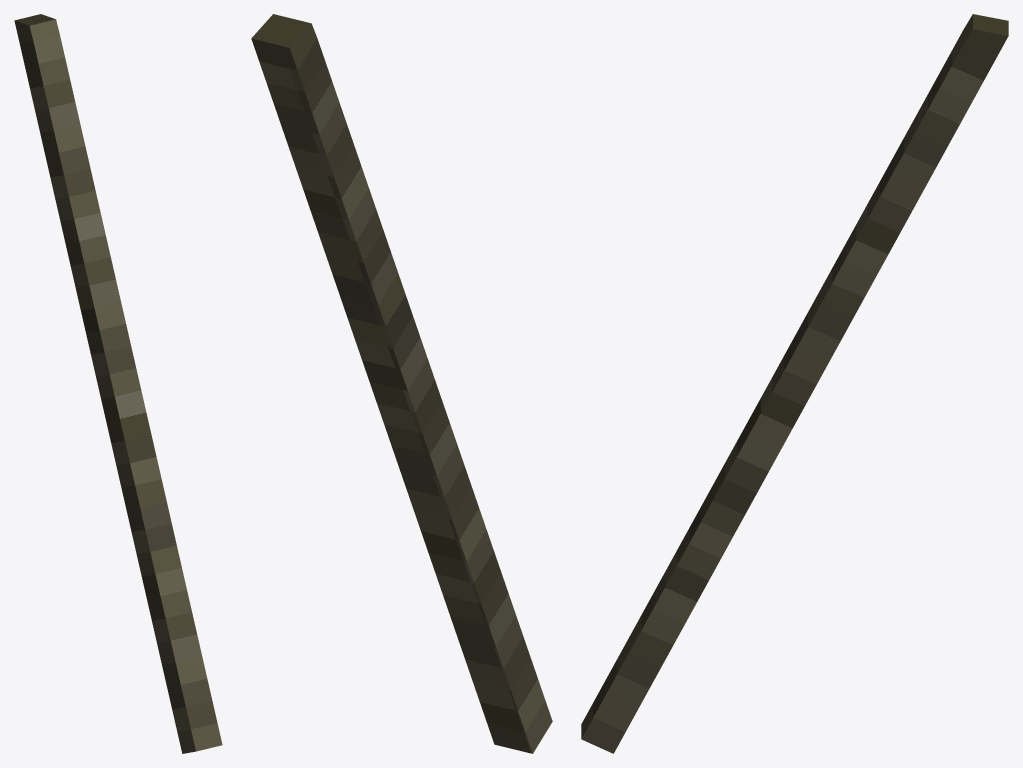
File: rope_2tall_right.obj
3 views of the same model, side by side, from view 1: azimuth 30°, elevation 25°; view 2: azimuth 150°, elevation 25°; view 3: azimuth 270°, elevation 25° (orthographic). The views are drawn at different scales.
Parts seen in each view (by area): view 1: cube; view 2: cube; view 3: cube.
Boxes of the visible parts, x1,y1,x2,y2 form: cube: (14, 14, 222, 753); cube: (251, 14, 552, 753); cube: (581, 14, 1008, 753).
Bounding box in the file's own units: 0.0938 × 2.08 × 1.11.
